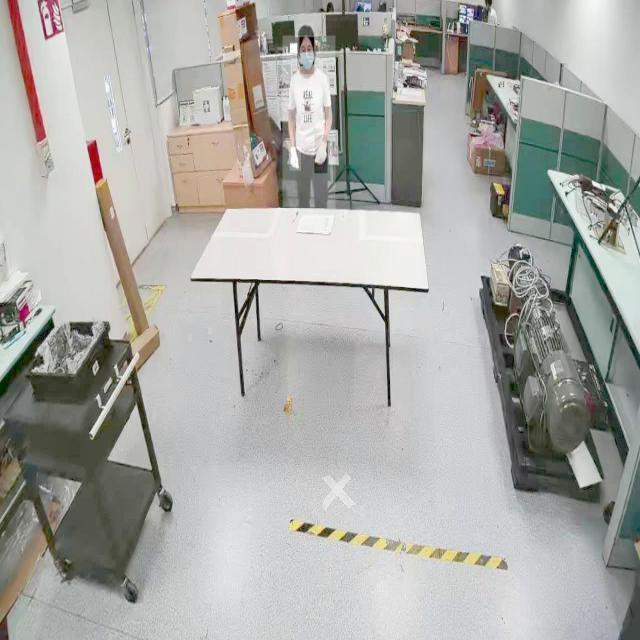gloves: (314, 135, 328, 174), (290, 146, 302, 172)
